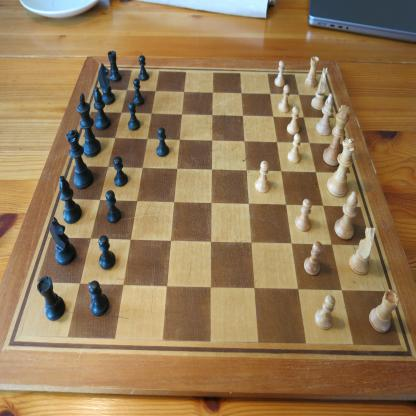black-bishop: (58, 175, 82, 224), (93, 86, 111, 130)
black-king: (76, 92, 102, 158)
black-knight: (49, 216, 76, 265), (97, 63, 115, 106)
black-pawn: (88, 280, 110, 316), (98, 234, 116, 270), (105, 190, 122, 224), (113, 155, 128, 187), (156, 127, 170, 157), (132, 78, 145, 106), (128, 102, 140, 131), (138, 54, 149, 81)
black-queen: (65, 128, 94, 190)
black-rook: (36, 275, 66, 322), (107, 50, 122, 82)
white-bishop: (334, 190, 358, 241), (315, 92, 334, 136)
white-king: (322, 104, 351, 166)
white-knight: (349, 226, 376, 276), (311, 66, 328, 111)
white-pawn: (314, 294, 336, 330), (303, 240, 323, 276), (295, 197, 312, 232), (255, 160, 270, 194), (288, 133, 302, 164), (277, 84, 291, 113), (287, 105, 300, 135), (274, 60, 286, 87)
white-queen: (326, 136, 358, 198)
white-rook: (368, 288, 400, 334), (304, 55, 320, 89)
